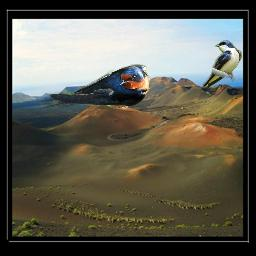Swallow: (37, 64, 151, 109), (202, 40, 242, 89)
